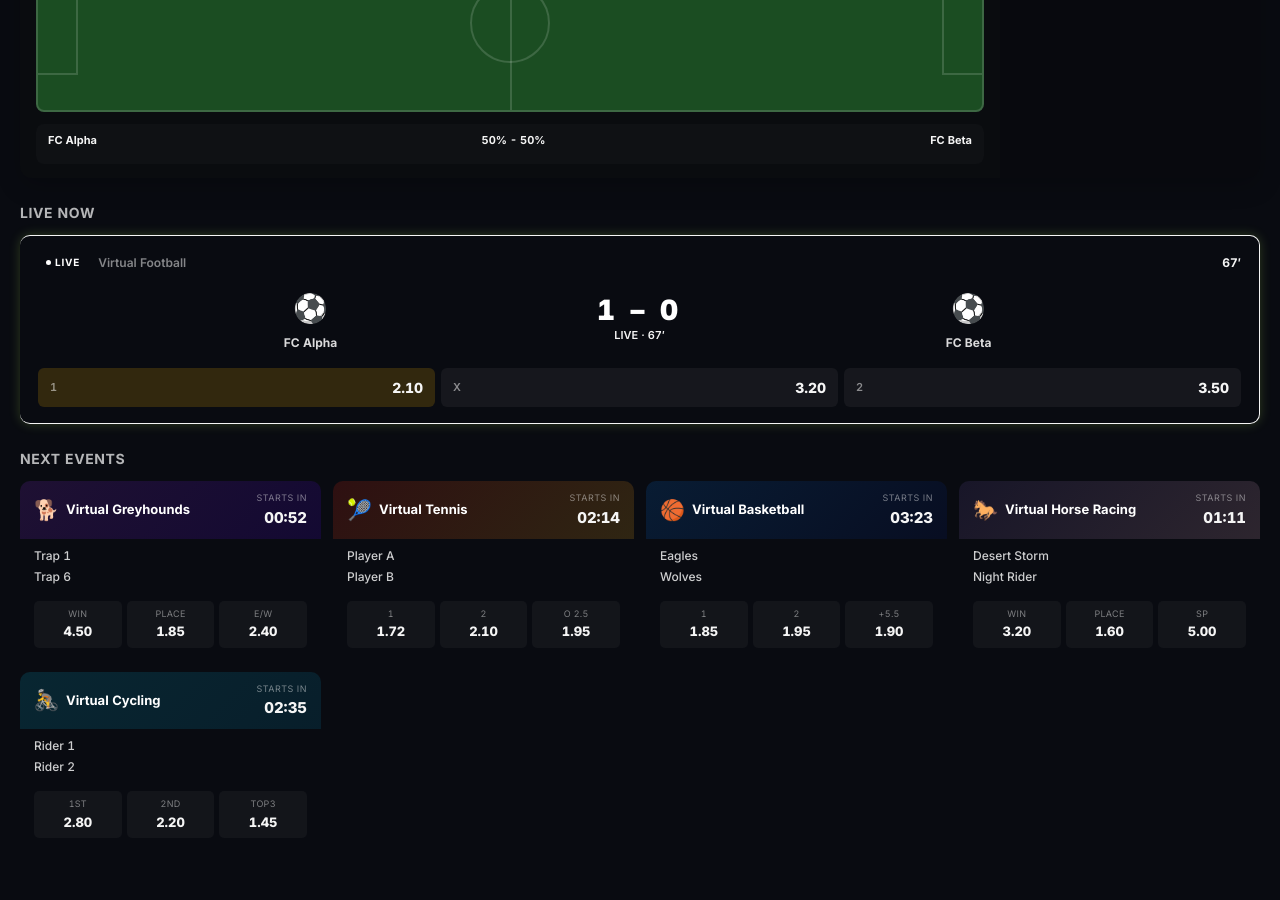
Test case: Virtuals Component › Bet Selection › shows "Removed" toast when clicking already selected bet
(page scrolled)
Click the button "1 2.10" at (408, 388), box [38,368,435,407]
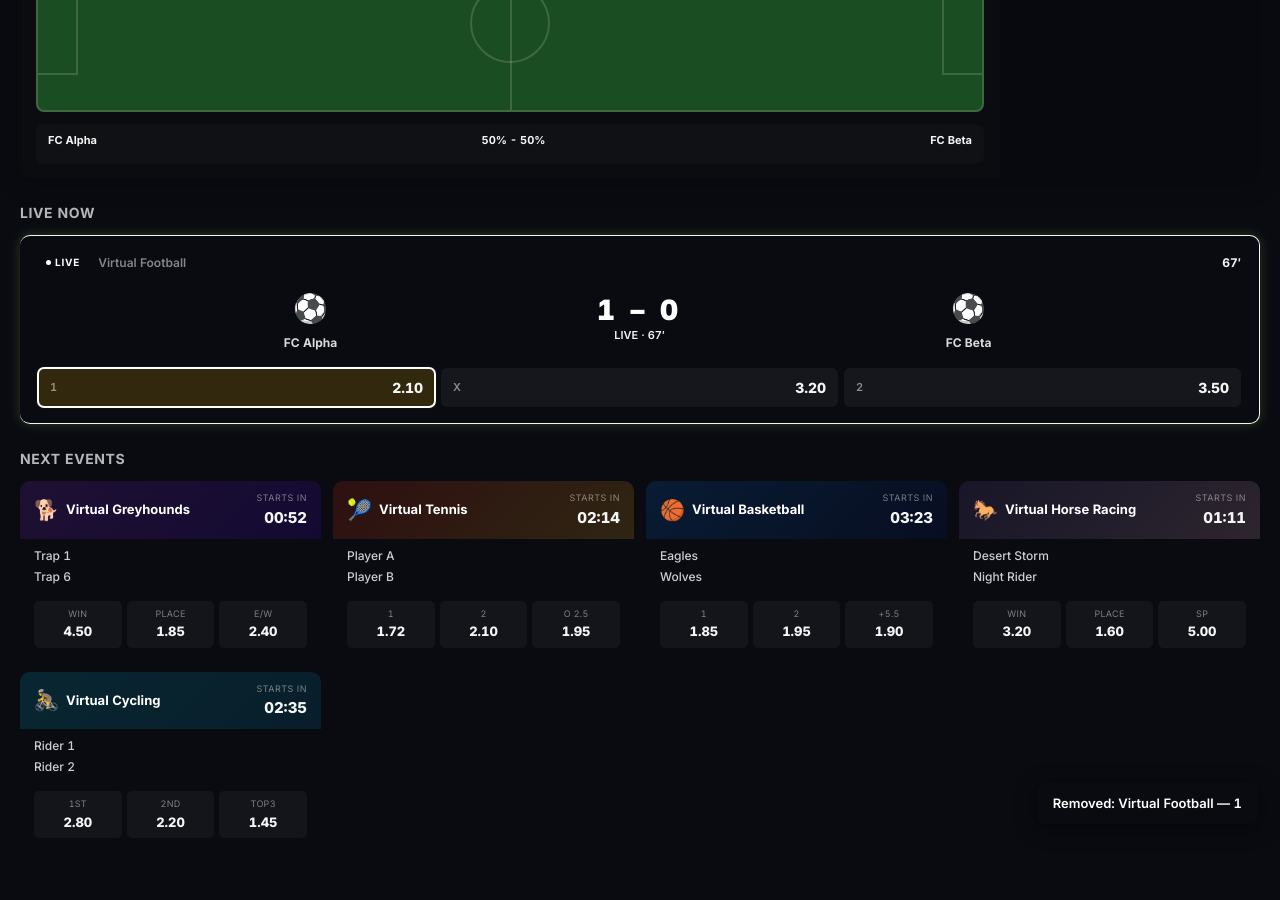
Now the text "Removed: Virtual Football — 1" is shown, box [1037,782,1258,824]
